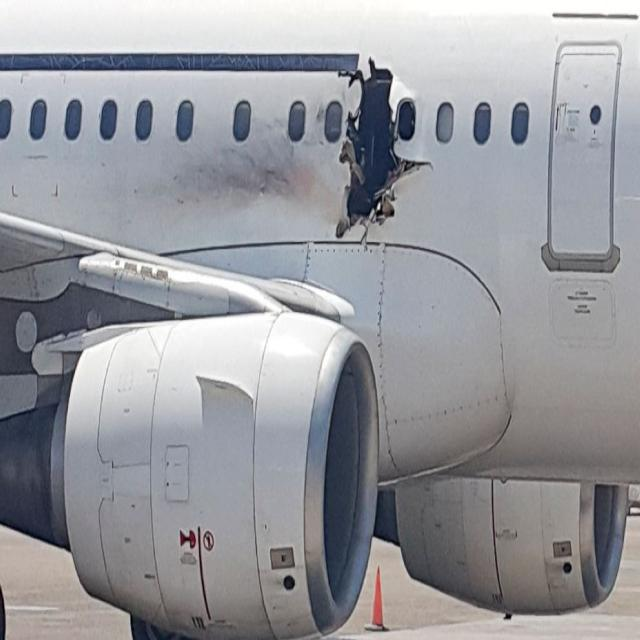Crack: (334, 52, 433, 235)
Dent: (177, 124, 295, 204), (251, 159, 289, 197)
